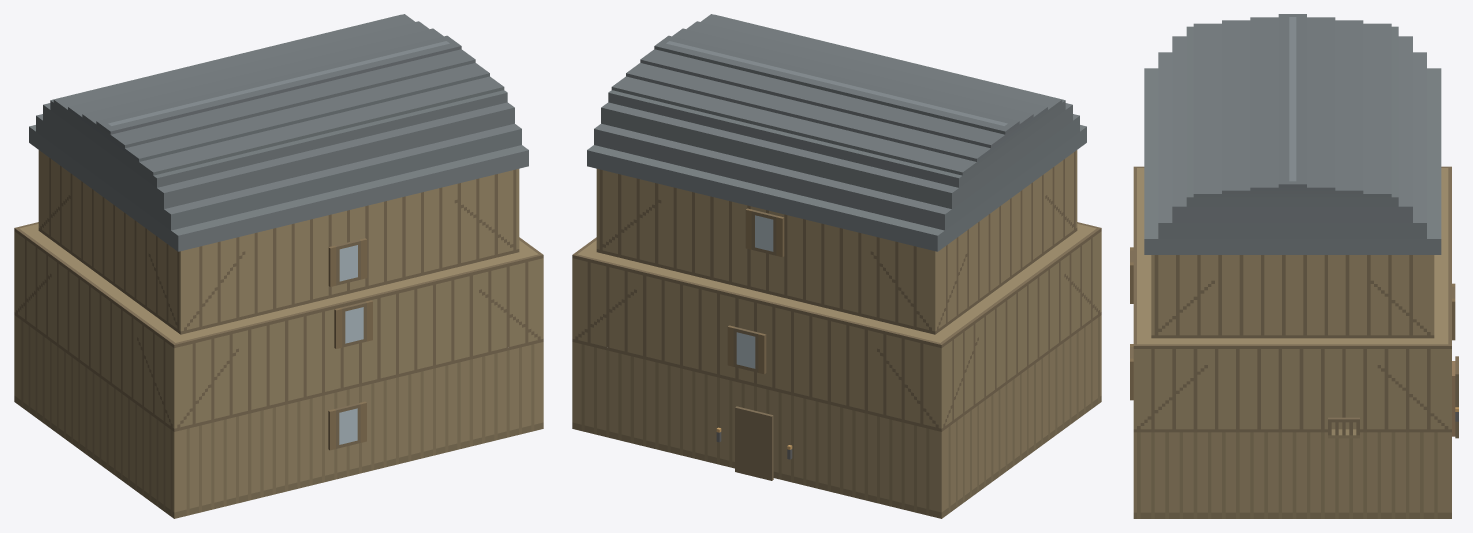
The model's file is casa_noble_02.glb.
The picture shows the model from 3 angles, left to right: view 1: azimuth 30°, elevation 25°; view 2: azimuth 150°, elevation 25°; view 3: azimuth 270°, elevation 25°; orthographic projection.
Parts seen in each view (by area): view 1: casa_noble_02; view 2: casa_noble_02; view 3: casa_noble_02.
Boxes of the visible parts, x1=… form: casa_noble_02: x1=14, y1=14, x2=543, y2=518; casa_noble_02: x1=572, y1=14, x2=1101, y2=518; casa_noble_02: x1=1130, y1=14, x2=1458, y2=518.
Size of the model in its own units: 12.4 by 10.3 by 9.3.
